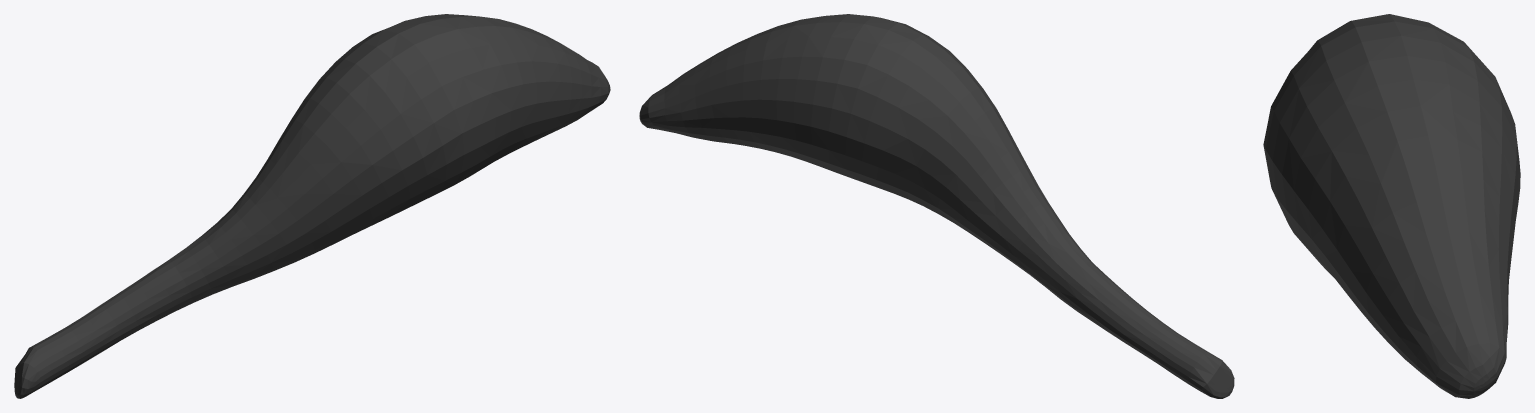
Rendered from MUSCLE_stapedius_L.glb.
3 renders of one model, left to right at view 1: azimuth 30°, elevation 25°; view 2: azimuth 150°, elevation 25°; view 3: azimuth 270°, elevation 25°, orthographic. The views are drawn at different scales.
Parts seen in each view (by area): view 1: MUSCLE_stapedius_L; view 2: MUSCLE_stapedius_L; view 3: MUSCLE_stapedius_L.
Part boxes in pixels (<box>): MUSCLE_stapedius_L: <box>14,14,610,398</box>; MUSCLE_stapedius_L: <box>639,14,1234,398</box>; MUSCLE_stapedius_L: <box>1263,14,1520,398</box>.
Bounding box in the file's own units: 1.62 × 0.7375 × 0.3927.
Materials: 1 (1 with a texture image).
